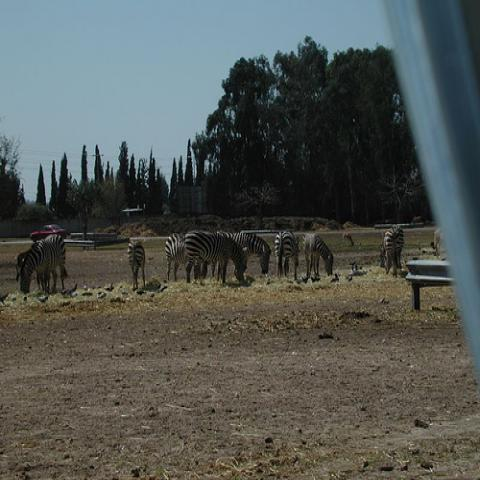car: (30, 224, 67, 242)
